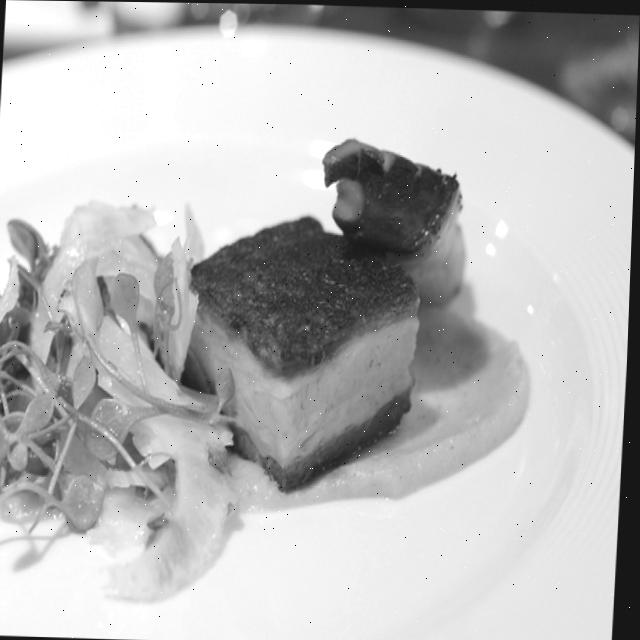牛肉菜式: (130, 97, 546, 570)
